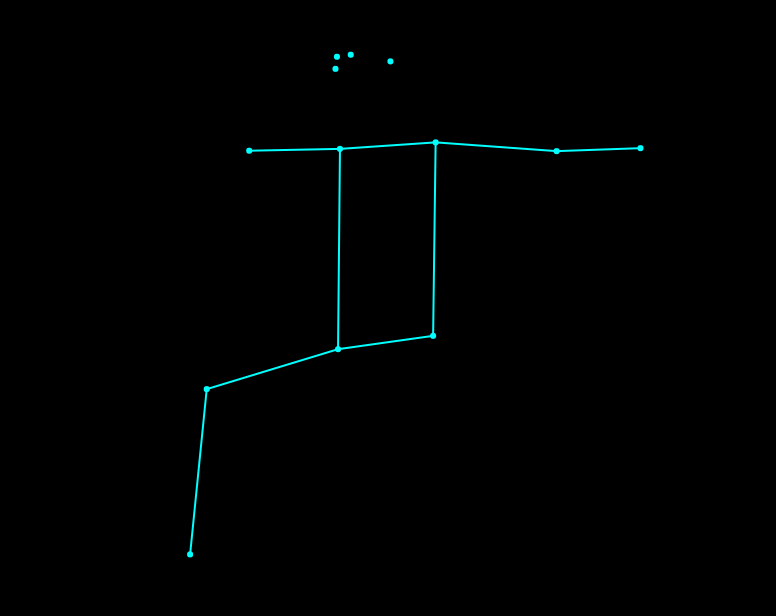warrior_2: (177, 44, 654, 565)
